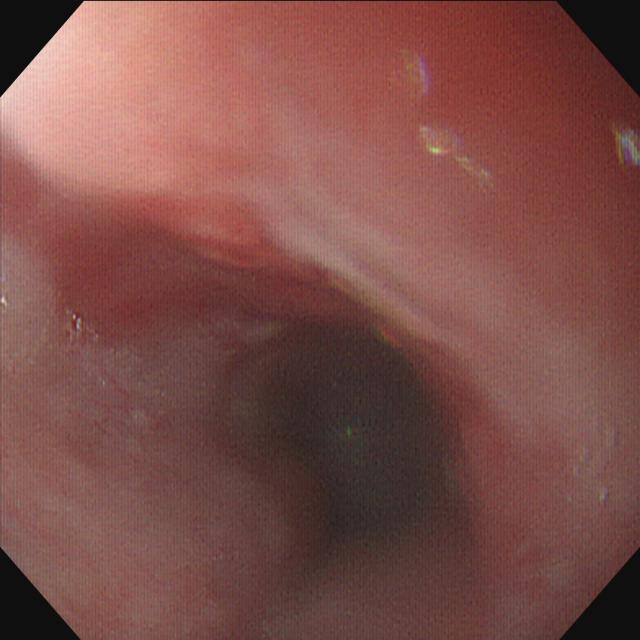E: (248, 316, 444, 527)
